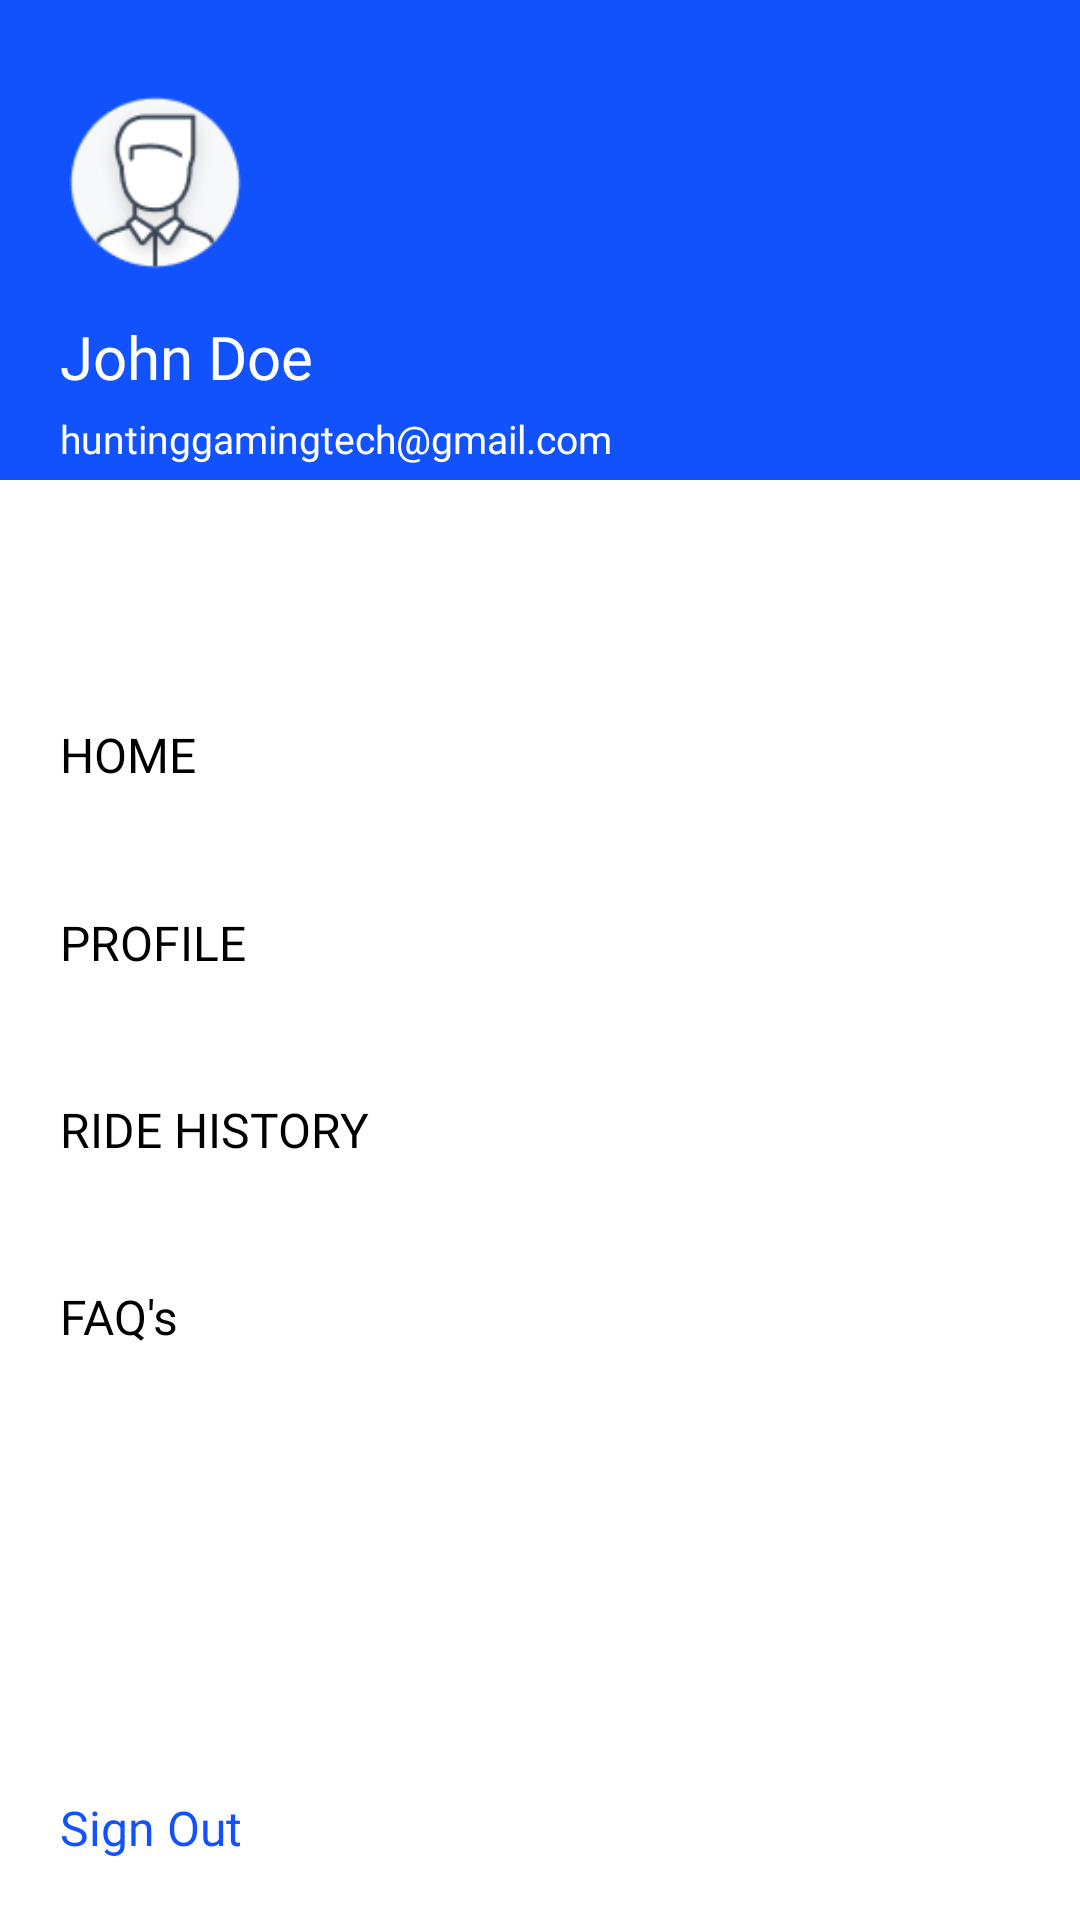

Point at icon controls on the screen. Image size 1080 × 1920, points as (x=x, y=y).
user: (x=155, y=182)
